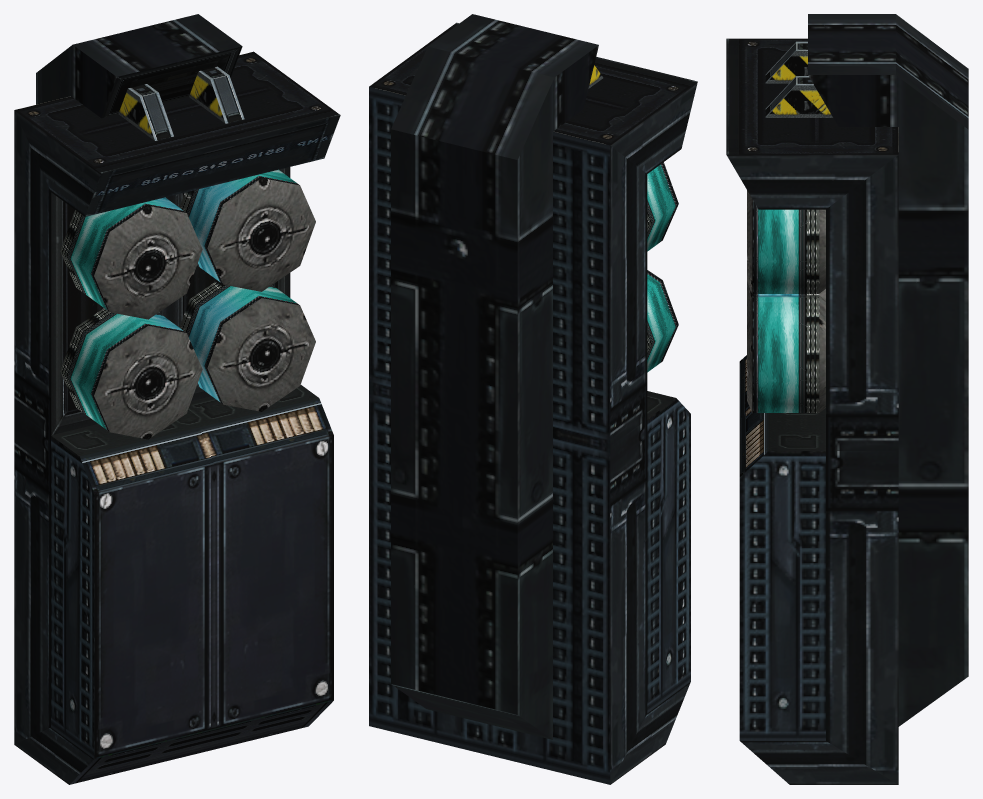
The model's file is Battery_large_07.FBX.
3 renders of one model, left to right at view 1: azimuth 30°, elevation 25°; view 2: azimuth 150°, elevation 25°; view 3: azimuth 270°, elevation 25°, orthographic.
Visible parts, largest first — view 1: Battery_large_07; view 2: Battery_large_07; view 3: Battery_large_07.
Boxes of the visible parts, <box> form: Battery_large_07: <box>14,14,340,784</box>; Battery_large_07: <box>369,14,697,784</box>; Battery_large_07: <box>726,14,968,784</box>.
Size of the model in its own units: 155 by 425 by 137.
